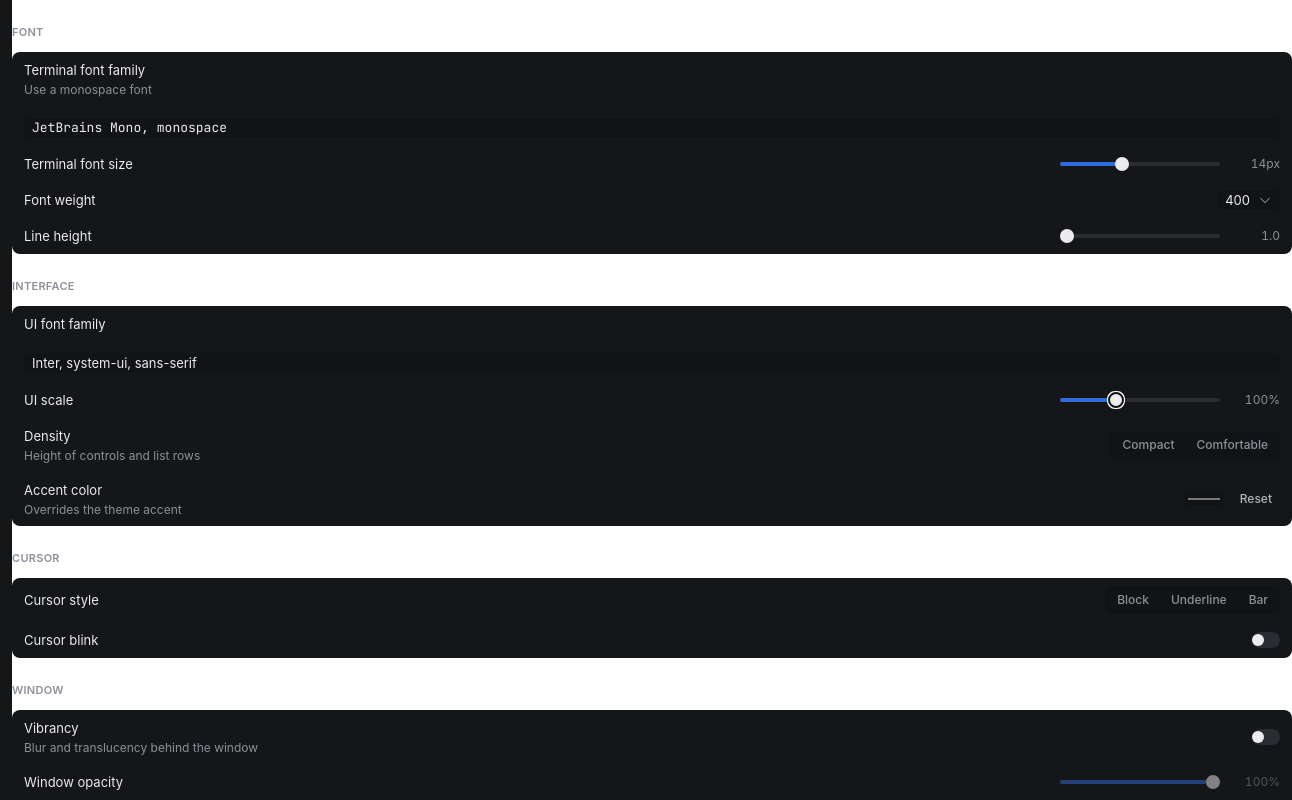
Test: AppearancePanel › applies the UI scale only on Apply, with one percent readout and no number box
(page scrolled)
Press Arrowright
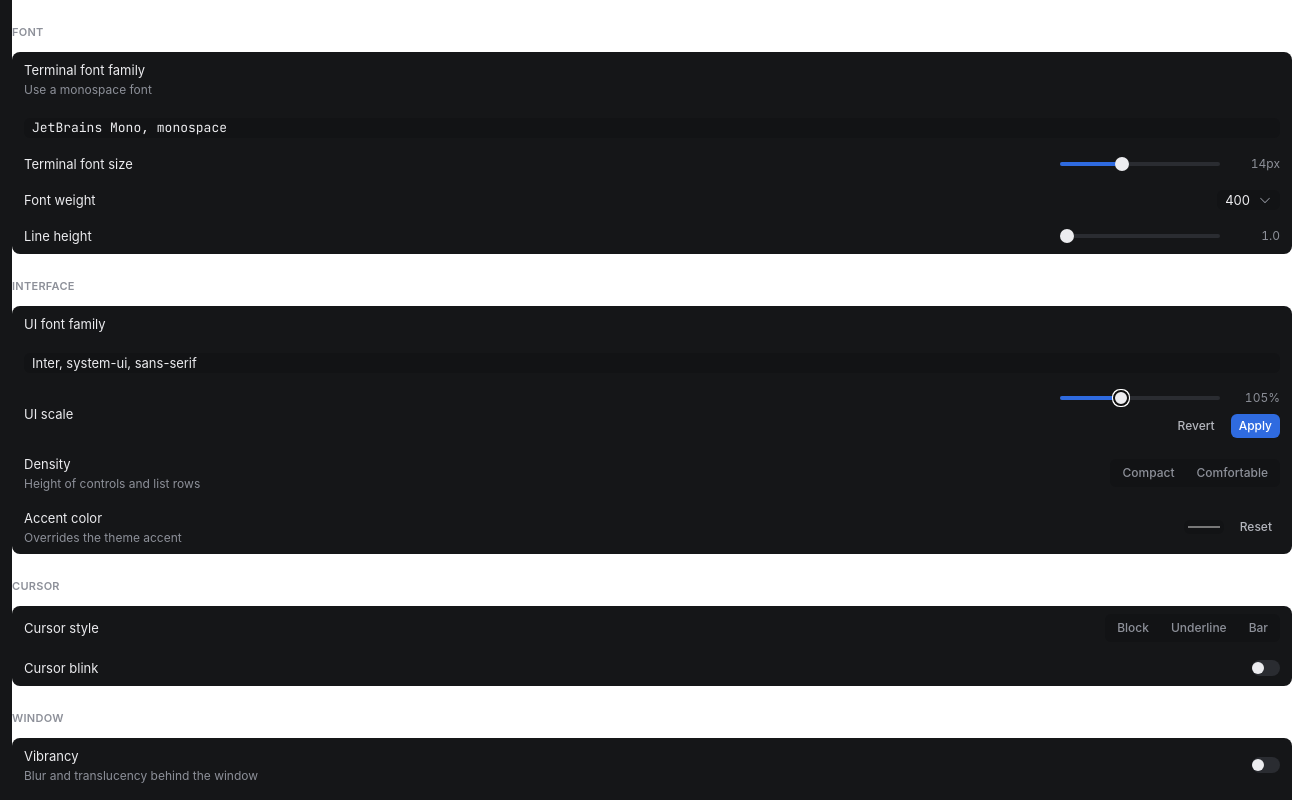
Result: the slider named "UI scale" has attribute aria-valuetext="105%" at [1114, 391, 1128, 405]
Click the button "Revert" at (1196, 426), box [1170, 414, 1223, 438]
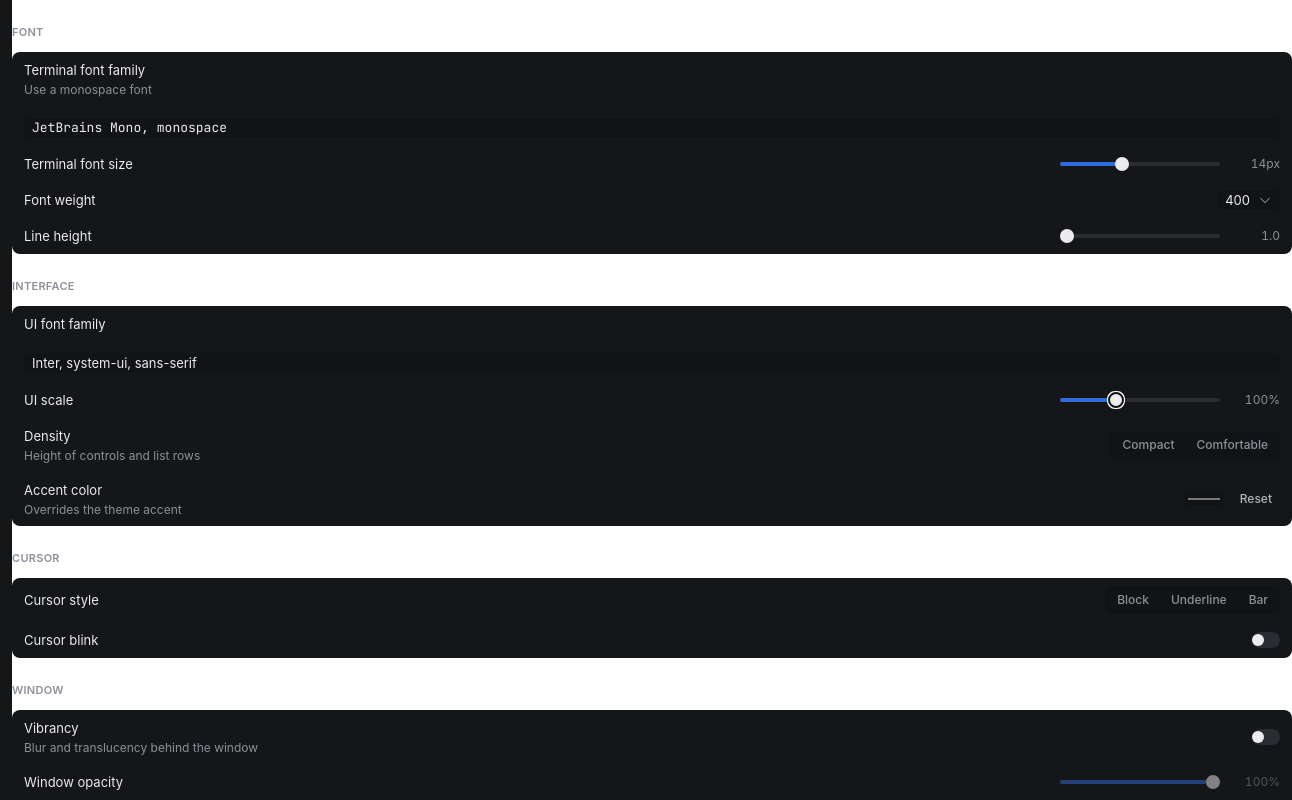
Result: the slider named "UI scale" has attribute aria-valuetext="100%" at [1109, 393, 1123, 407]
Press End
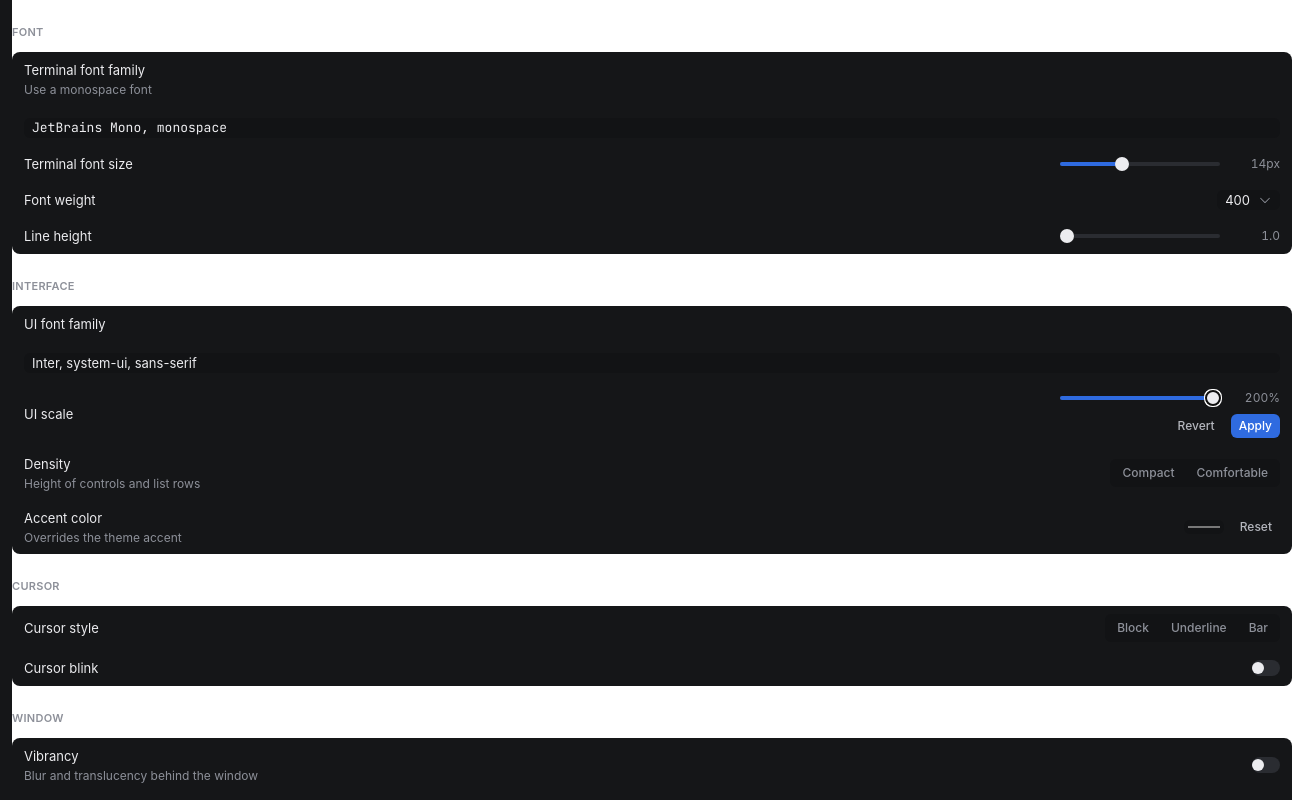
Click the button "Apply" at (1255, 426), box [1231, 414, 1280, 438]
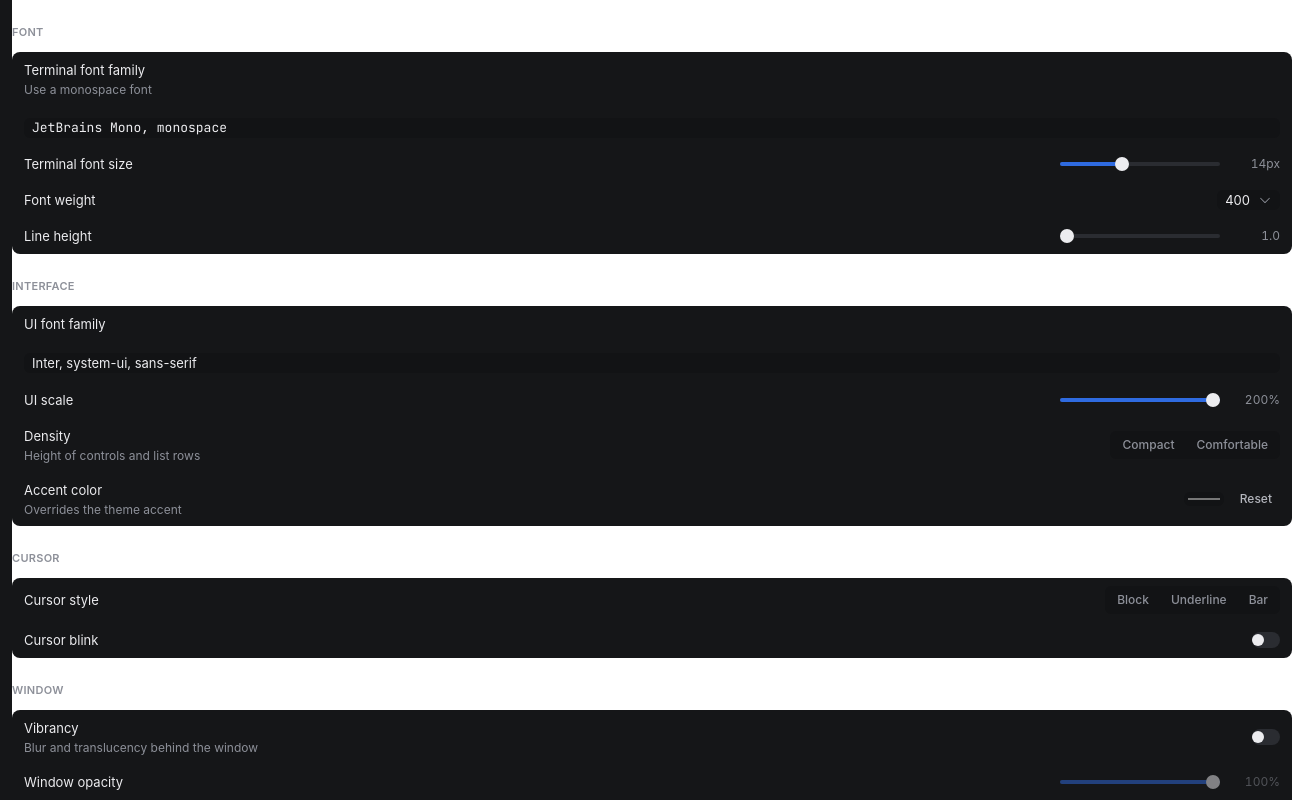
Result: the button "Apply" is gone
